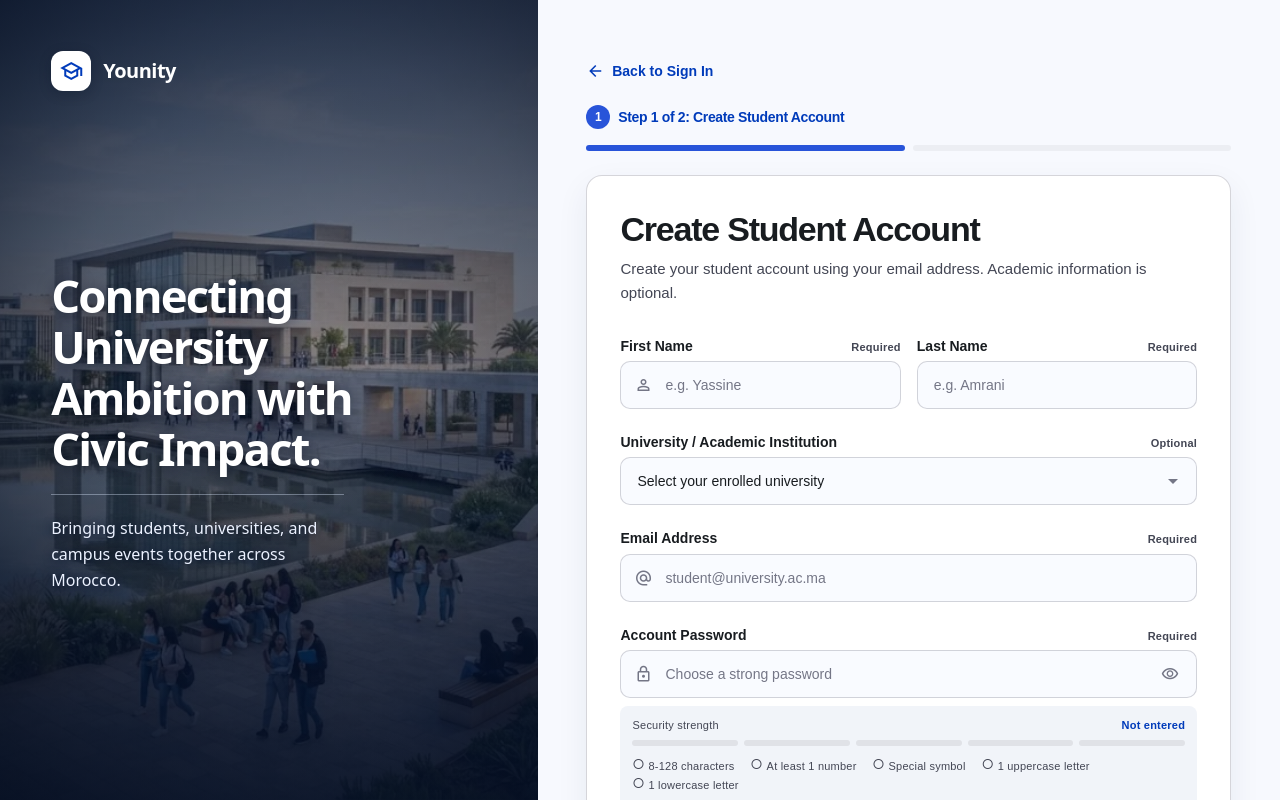
Test: merged registration and login routes › opens login from /register/student
This screenshot has width=1280, height=800.
Step 1. Click the link "Back to Sign In" → x=650, y=71, box [586,60,713,82]
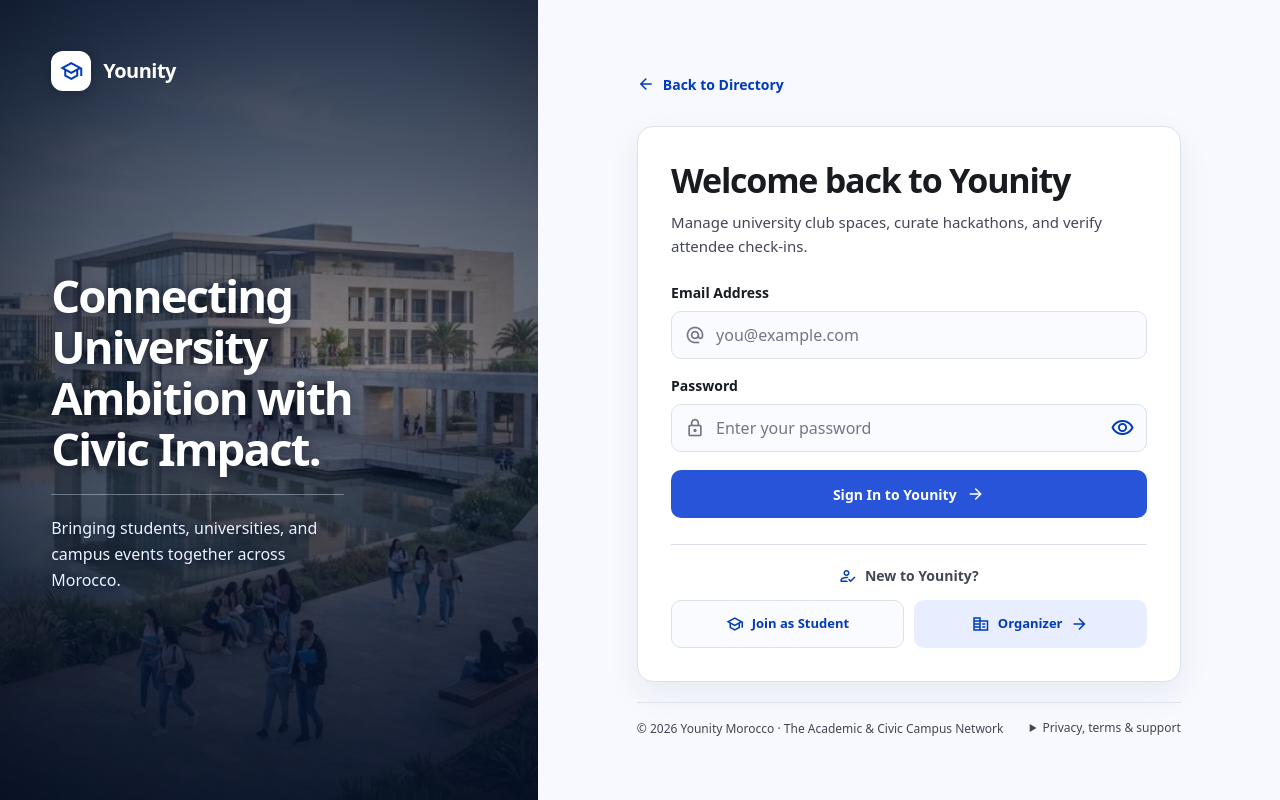
Check: the heading "Welcome back to Younity" is shown, box [671,157,1070,203]
Check: the form "Sign In to Younity" is shown, box [671,284,1147,518]
